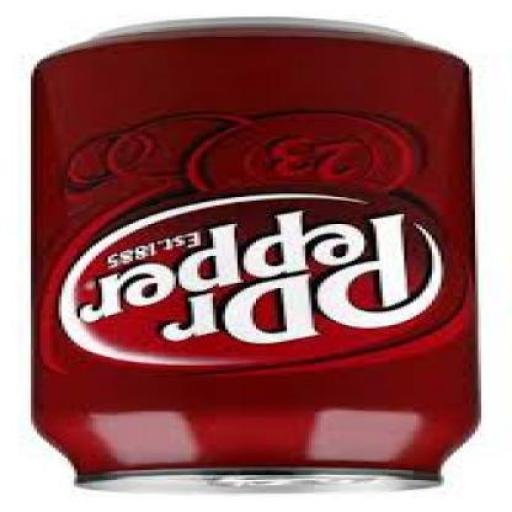metal: (34, 18, 484, 495)
